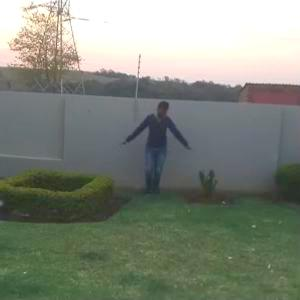land: (118, 93, 196, 202)
